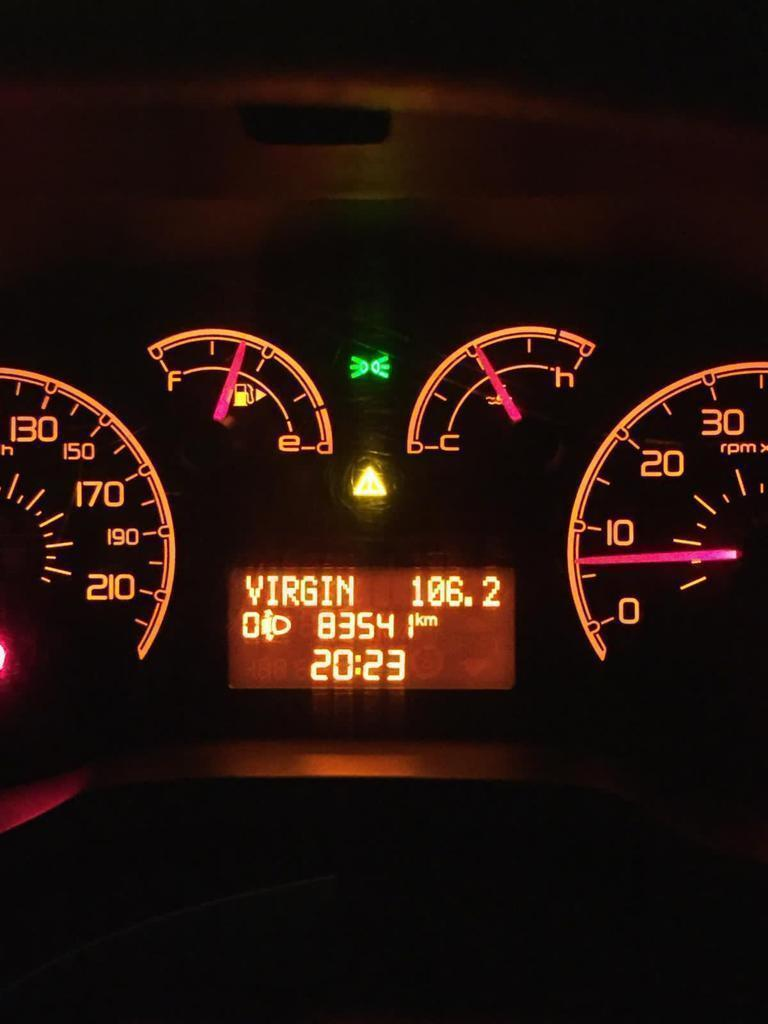,: (463, 594, 475, 609)
0: (332, 645, 353, 684), (427, 573, 445, 608), (241, 609, 260, 641)
1: (411, 571, 425, 609), (405, 613, 414, 640)
2: (480, 574, 504, 611), (308, 645, 330, 682), (362, 647, 382, 684)
3: (386, 648, 406, 685), (339, 608, 356, 640)
4: (376, 609, 396, 641)
5: (356, 609, 374, 642)
6: (446, 573, 463, 610)
8: (317, 608, 337, 642)
X: (244, 572, 264, 606), (335, 574, 355, 607), (281, 572, 299, 608), (300, 574, 318, 608), (265, 573, 279, 607), (320, 572, 333, 607), (354, 652, 362, 677), (424, 614, 438, 627), (414, 610, 424, 627)
odometer: (226, 563, 519, 693)
